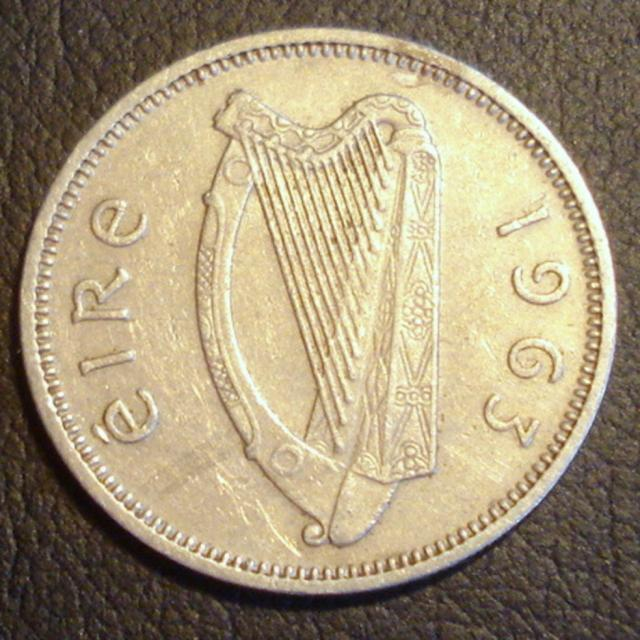Coin: (21, 25, 616, 600)
